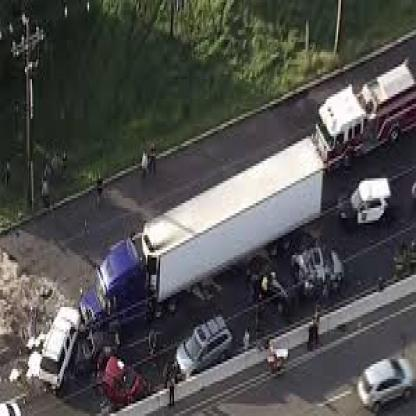accident: (14, 275, 114, 401), (263, 238, 362, 304), (88, 336, 164, 411)
